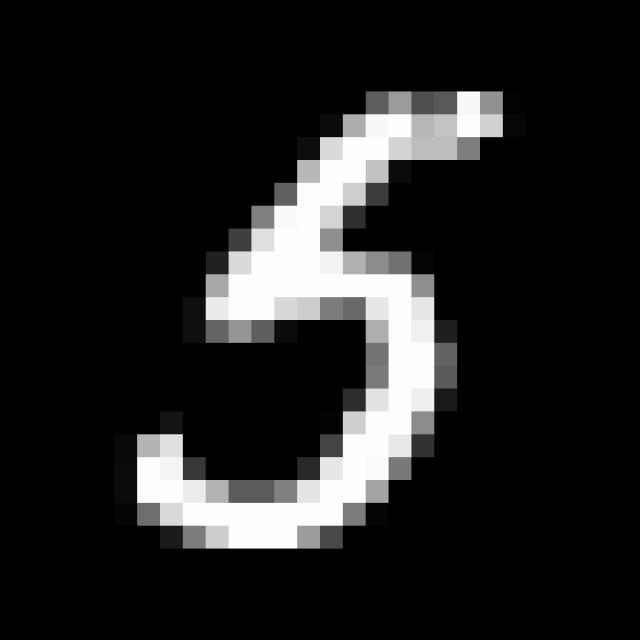five -5-: (128, 71, 517, 557)
